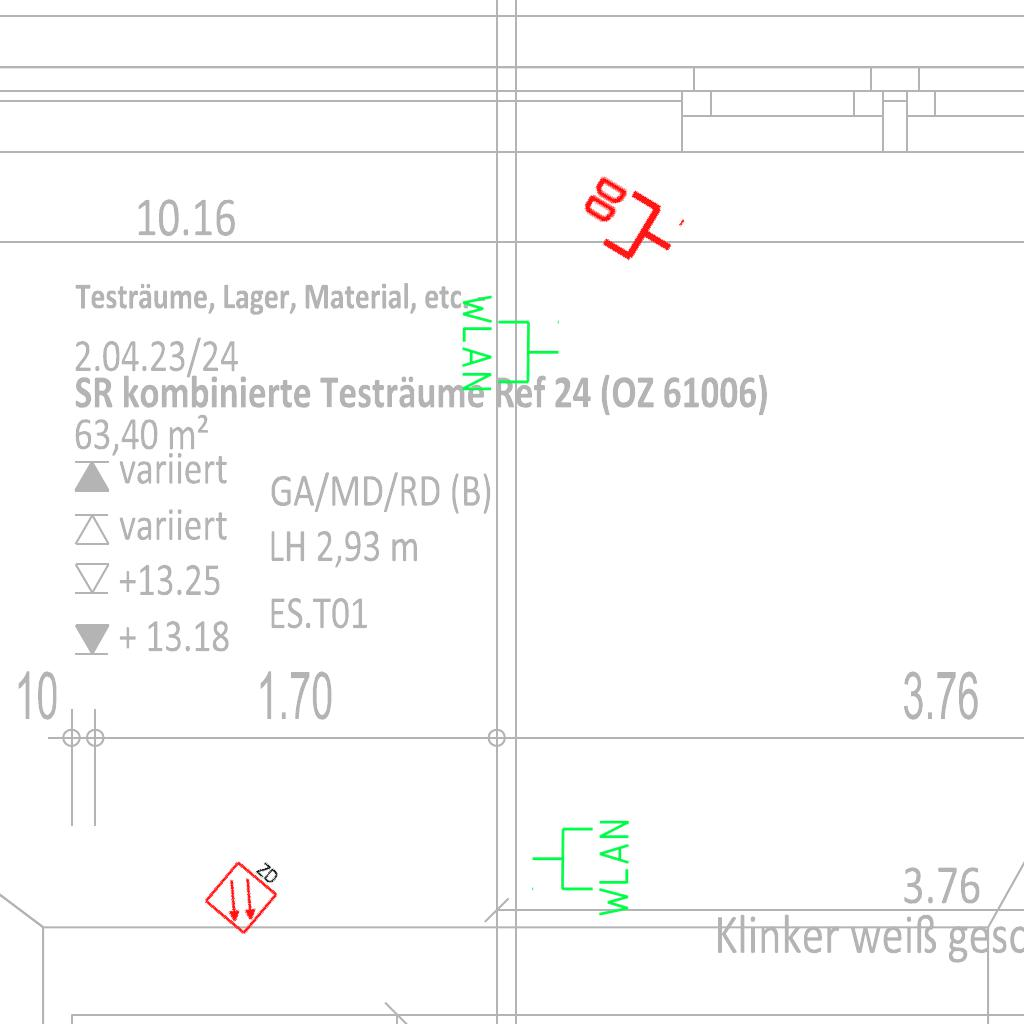Datenanschluss_zweifach: (565, 168, 690, 281)
WLAN: (529, 816, 633, 921), (458, 290, 562, 395)
ZD_Melder_in_Zwischendecke_mit_Revisionsoeffnung_mind_40_x_40_cm: (200, 843, 293, 937)
